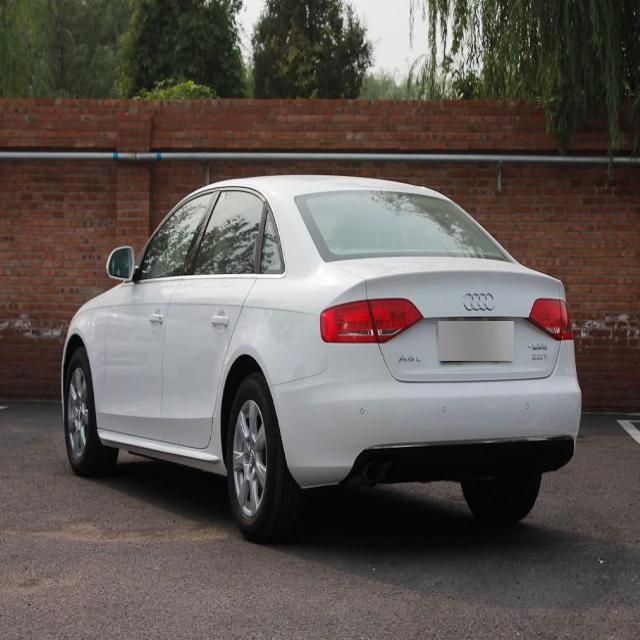back_glass: (293, 189, 512, 265)
back_left_side_light: (320, 296, 424, 344)
back_right_side_light: (525, 296, 575, 342)
door: (158, 182, 270, 454)
front_left_side_door: (104, 187, 218, 446)
front_left_side_mirror: (104, 244, 138, 284)
rear_bumper: (268, 335, 583, 494)
wheel: (228, 376, 306, 541), (63, 346, 119, 472), (458, 461, 544, 519)
